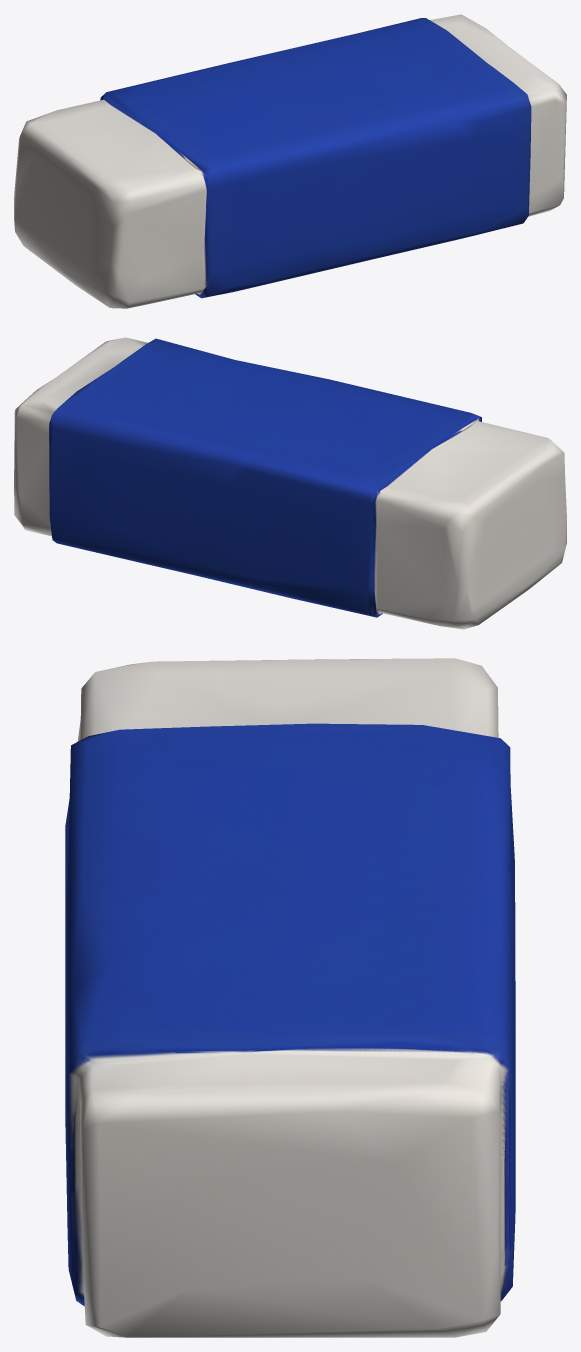
File: ENV_SMALL_PROPS_ERASER_v001_RAW.glb.glb
The picture shows the model from 3 angles, top to bottom: view 1: azimuth 30°, elevation 25°; view 2: azimuth 150°, elevation 25°; view 3: azimuth 270°, elevation 25°; orthographic projection. The views are drawn at different scales.
Parts seen in each view (by area): view 1: tripo_node_89a33668-4007-4d63-a643-1be121617f3d; view 2: tripo_node_89a33668-4007-4d63-a643-1be121617f3d; view 3: tripo_node_89a33668-4007-4d63-a643-1be121617f3d.
Part boxes in pixels (x1,y1,x2,y2): tripo_node_89a33668-4007-4d63-a643-1be121617f3d: (14,14,566,308); tripo_node_89a33668-4007-4d63-a643-1be121617f3d: (14,337,566,629); tripo_node_89a33668-4007-4d63-a643-1be121617f3d: (65,658,515,1337).
Size of the model in its own units: 0.9814 by 0.2908 by 0.4149.
1 material, 1 textured.
